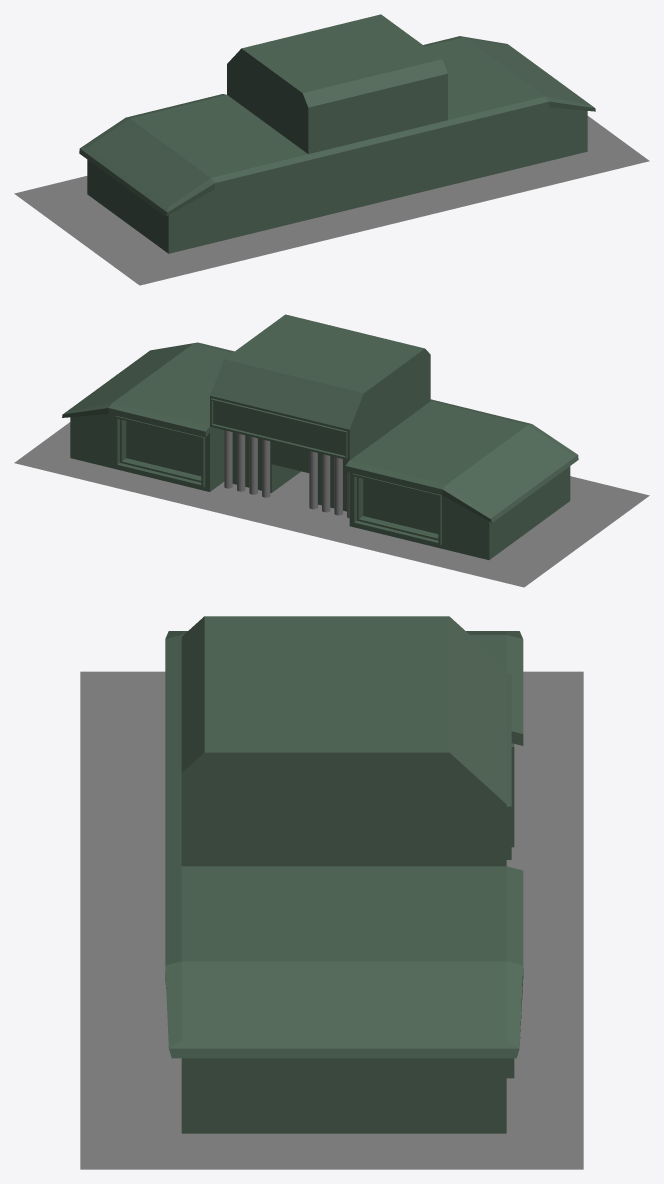
Rendered from movietheater.glb.
3 renders of one model, top to bottom at view 1: azimuth 30°, elevation 25°; view 2: azimuth 150°, elevation 25°; view 3: azimuth 270°, elevation 25°, orthographic. The views are drawn at different scales.
Parts seen in each view (by area): view 1: movietheater; view 2: movietheater; view 3: movietheater.
Boxes of the visible parts, <box> form: movietheater: <box>14,14,649,285</box>; movietheater: <box>14,314,649,587</box>; movietheater: <box>80,616,583,1169</box>.
Size of the model in its own units: 103 by 23.85 by 43.99.
